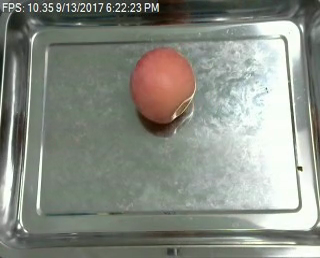Apple: (129, 44, 196, 127)
